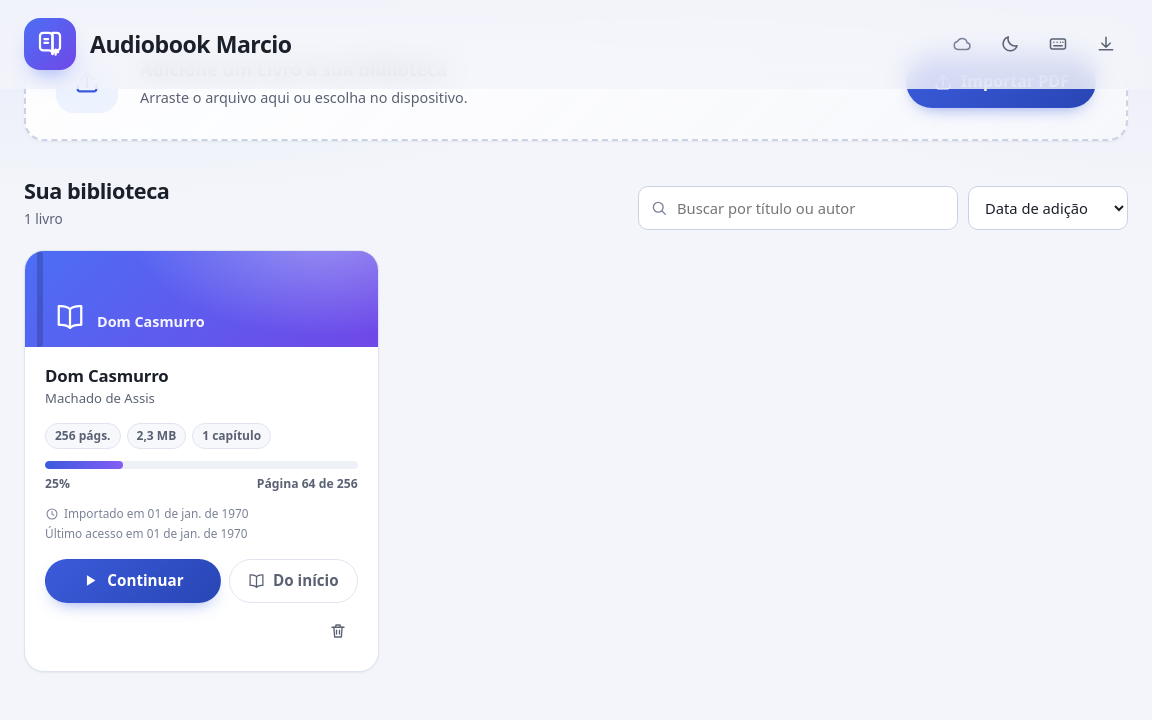
Test: Library › não exclui se a confirmação for cancelada
The image size is (1152, 720).
(page scrolled)
Click the button named "Excluir Dom Casmurro".
click(338, 630)  # box [318,610,358,650]
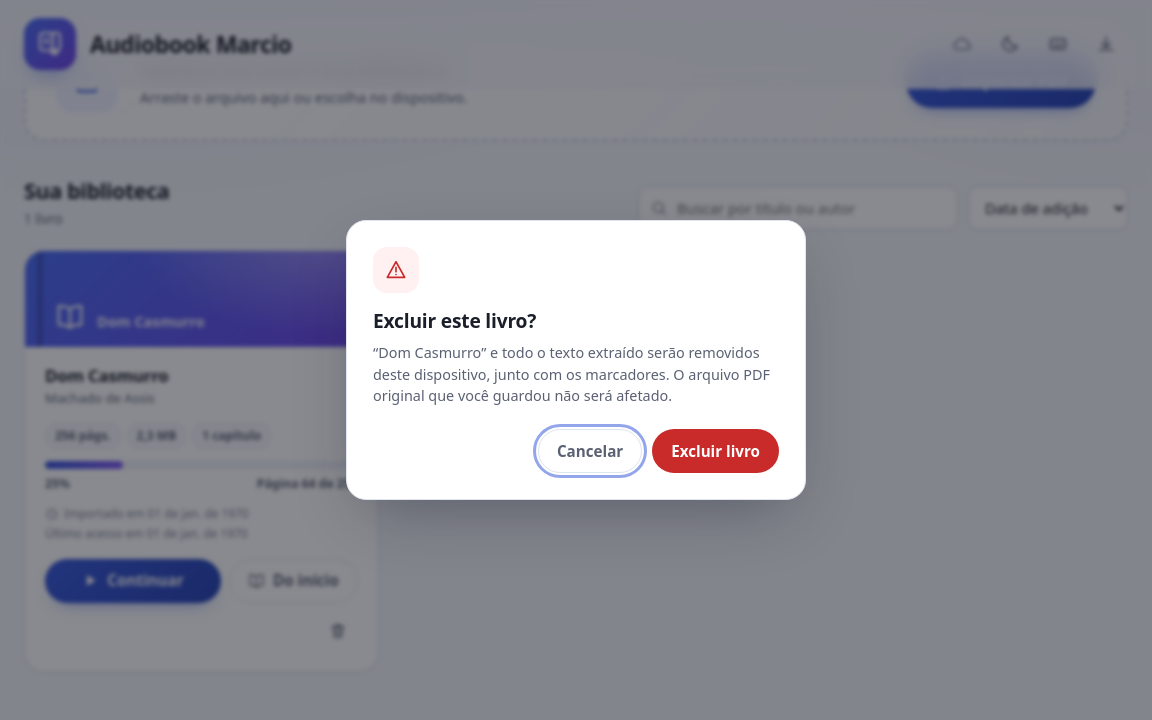
Click the button "Cancelar".
click(590, 451)  # box [538,429,642,473]
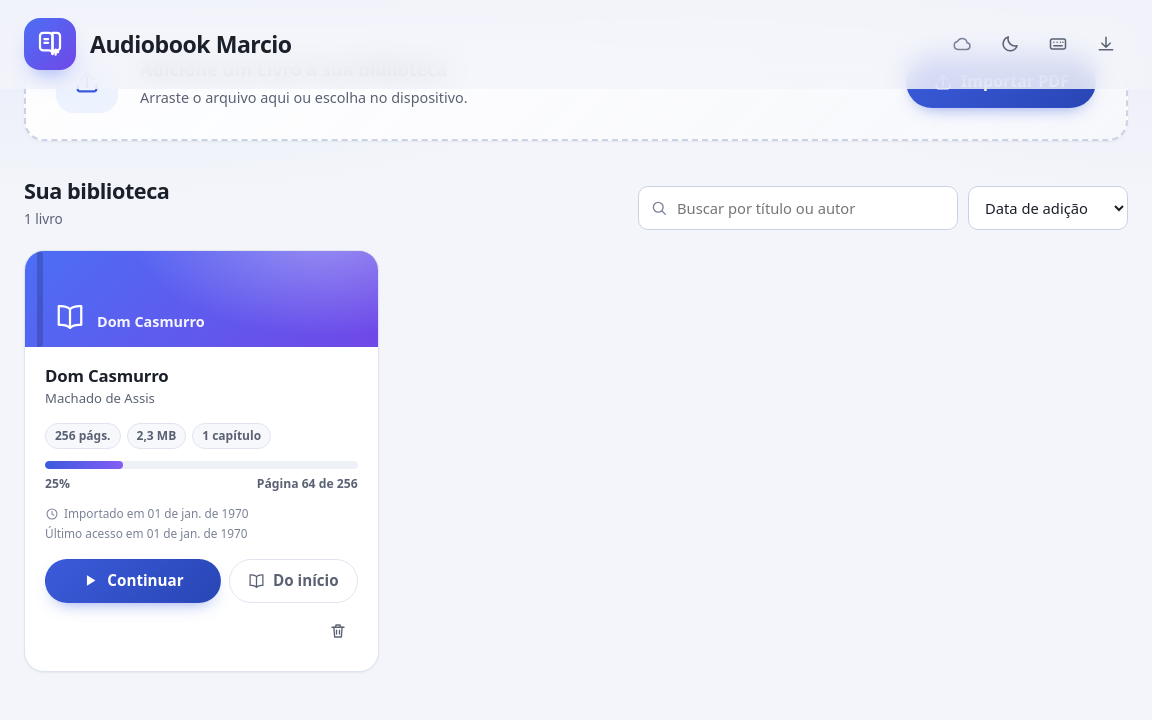
Check: the dialog is gone
